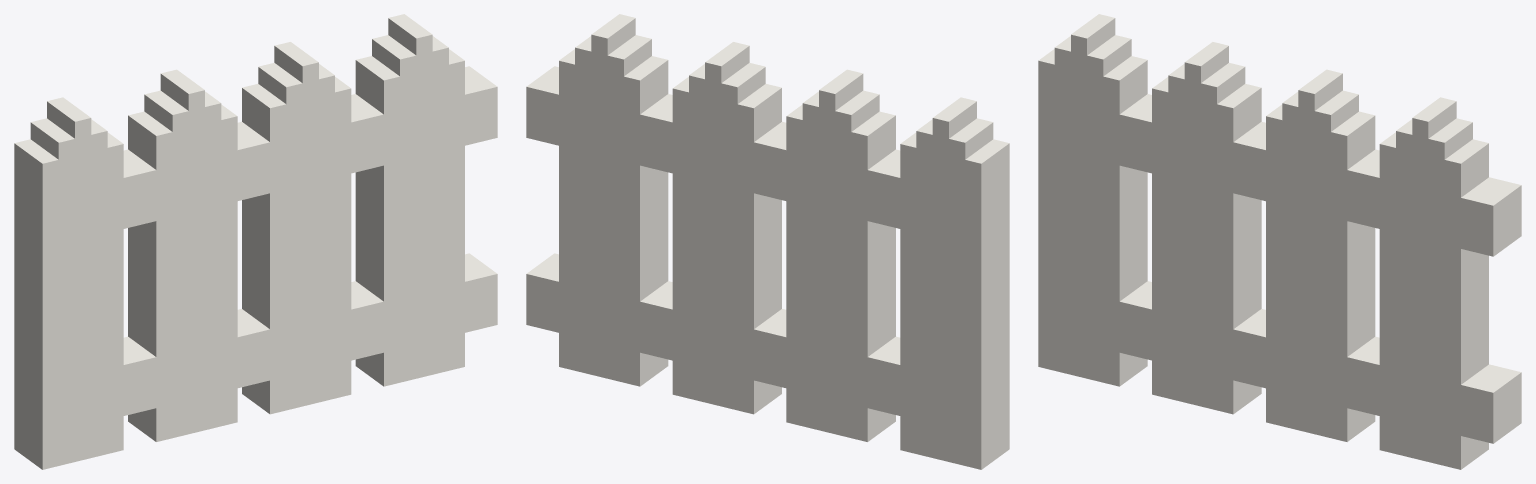
The model's file is picket fence.obj.
3 renders of one model, left to right at view 1: azimuth 30°, elevation 25°; view 2: azimuth 150°, elevation 25°; view 3: azimuth 330°, elevation 25°, orthographic.
Bounding box in the file's own units: 2.8 × 2 × 0.3.
Materials: 1 (1 with a texture image).
